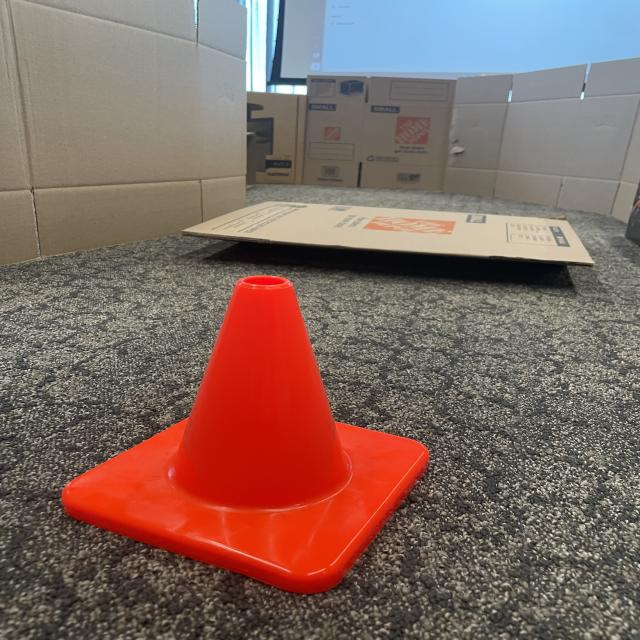Traffic Cone: (59, 274, 430, 592)
